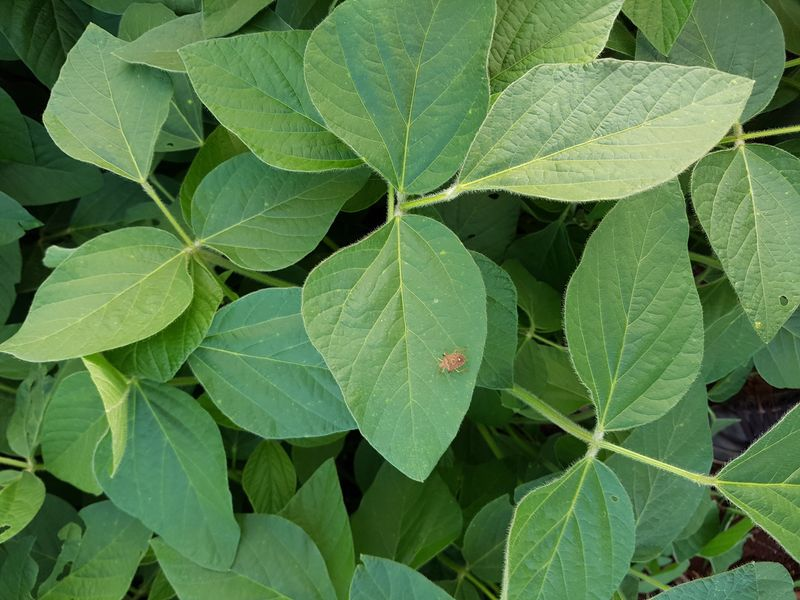Euschistus_heros_adulto: (428, 342, 474, 382)
